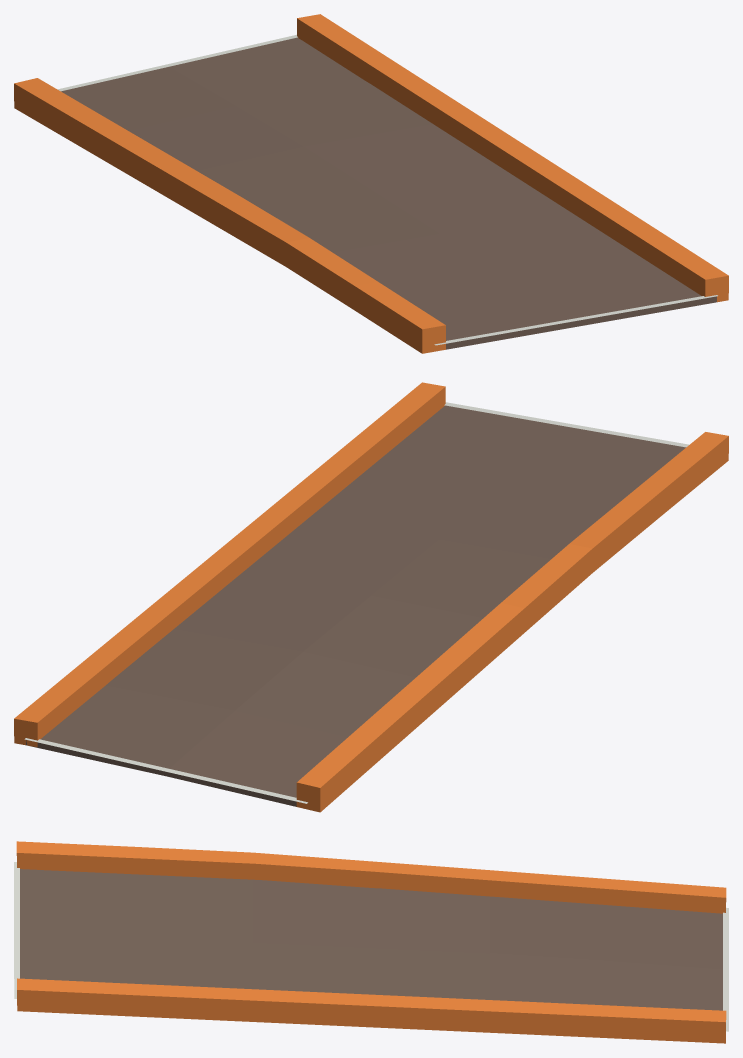
File: SM_MP_Film_A_1_3.fbx
3 views of the same model, one above another, from view 1: azimuth 30°, elevation 25°; view 2: azimuth 150°, elevation 25°; view 3: azimuth 270°, elevation 25° (orthographic). The views are drawn at different scales.
Parts seen in each view (by area): view 1: SM_MP_Film_A_1_3; view 2: SM_MP_Film_A_1_3; view 3: SM_MP_Film_A_1_3.
Part boxes in pixels (bbox=[...]): SM_MP_Film_A_1_3: bbox=[14, 14, 728, 353]; SM_MP_Film_A_1_3: bbox=[14, 382, 728, 812]; SM_MP_Film_A_1_3: bbox=[14, 841, 728, 1043].
Size of what is drawn, in the model's own units: 260 by 605 by 67.53.
